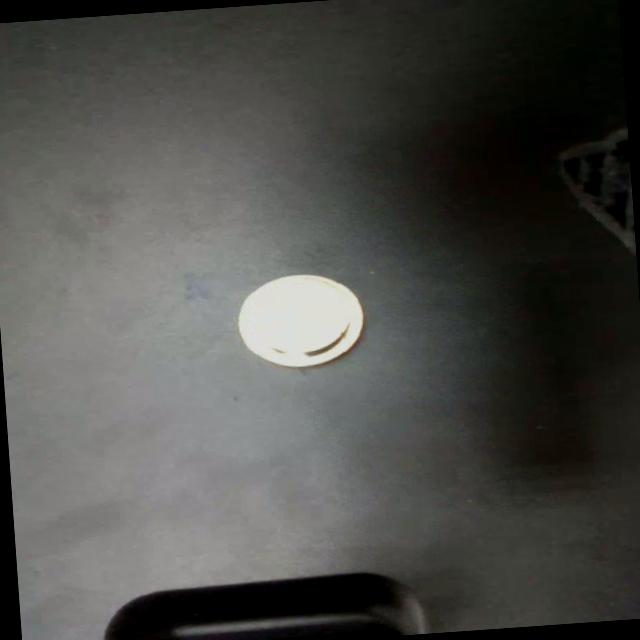sensor: (232, 268, 366, 371)
